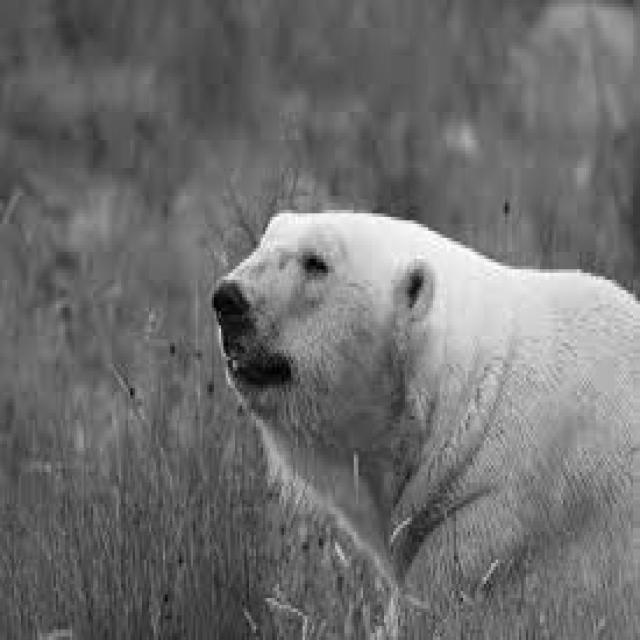Bear: (231, 199, 635, 630)
